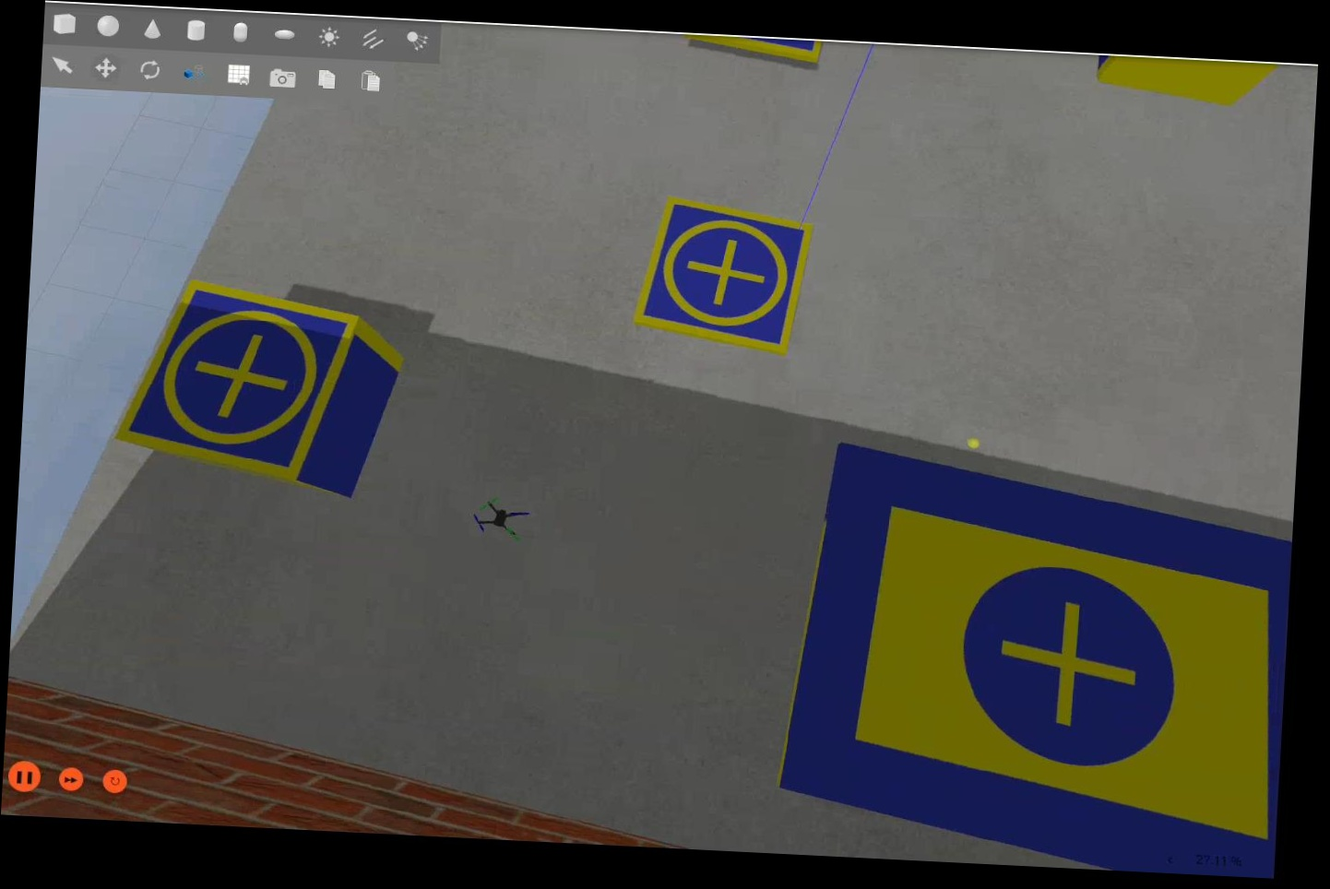large_base: (771, 435, 1298, 880)
small_base: (110, 274, 365, 491), (630, 192, 819, 364)
